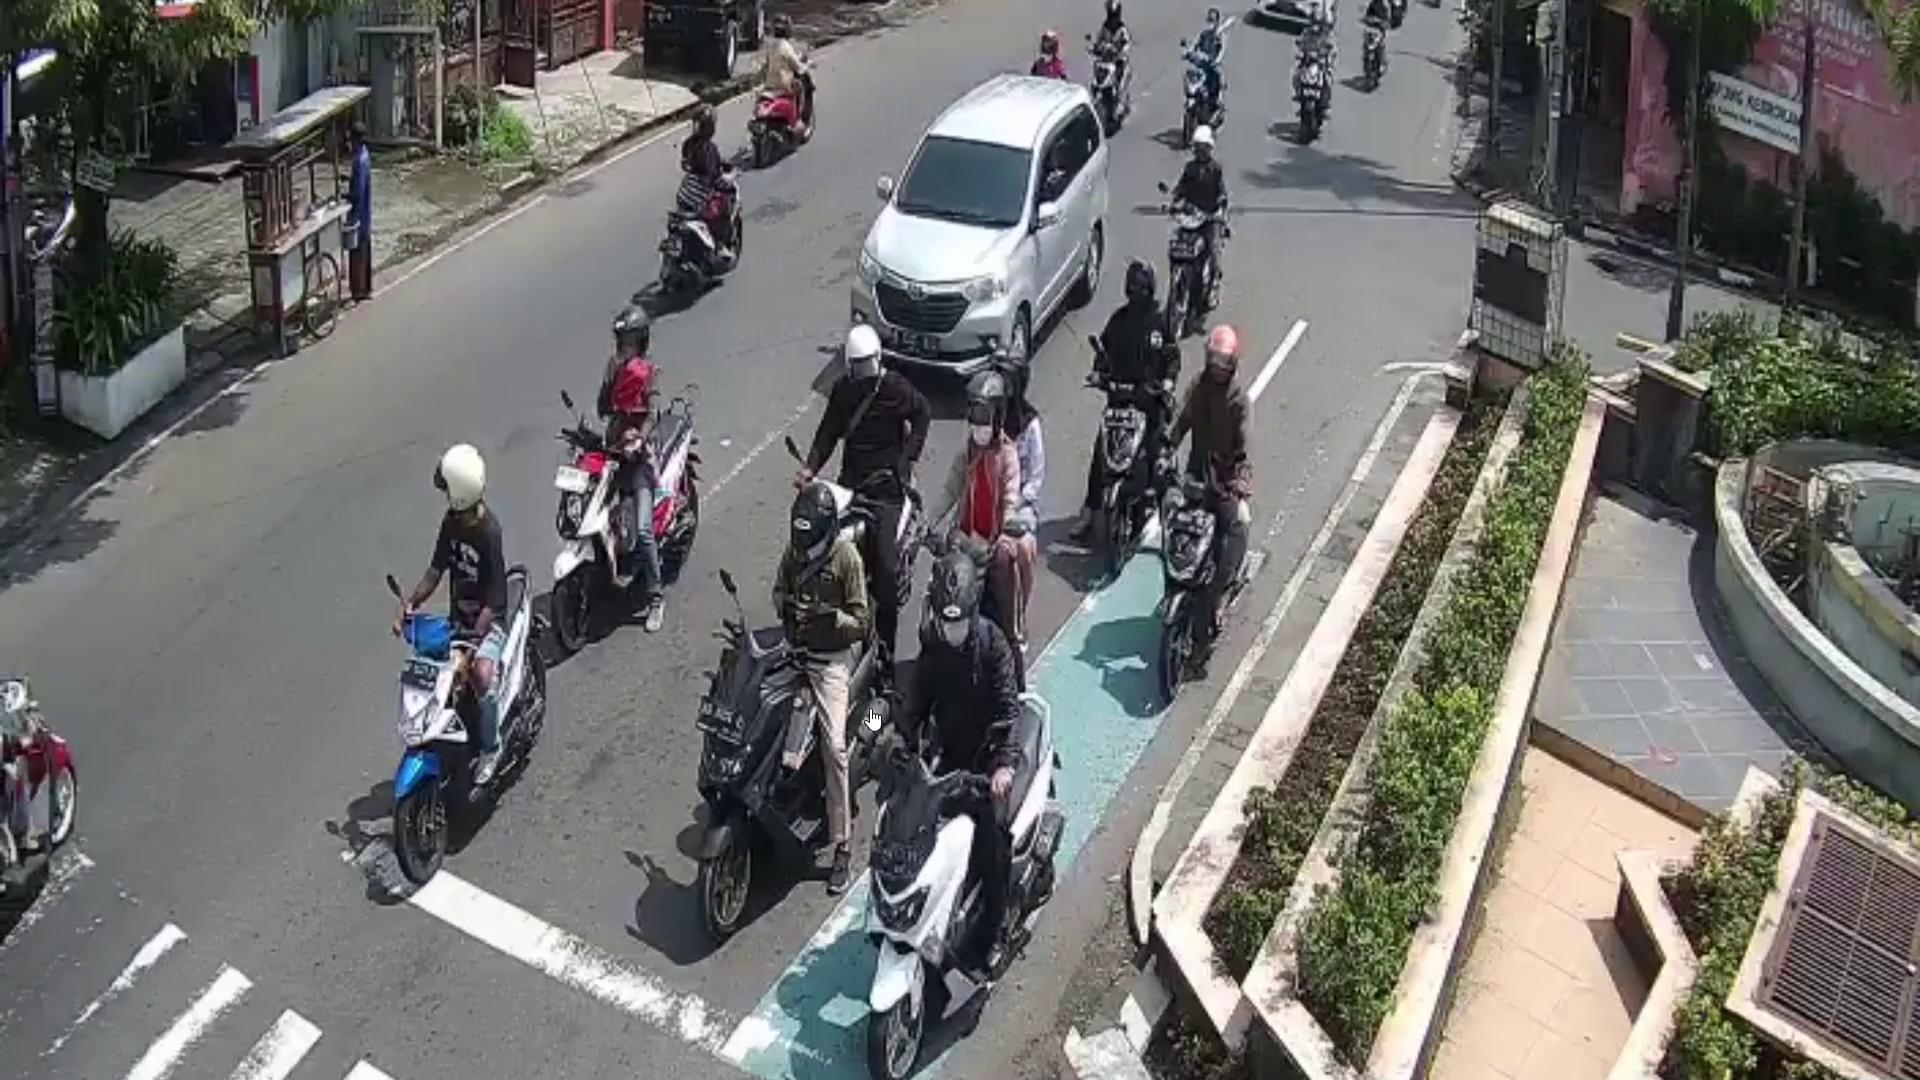car: (852, 74, 1110, 381)
motorbike: (868, 694, 1060, 1080), (699, 607, 885, 943), (389, 560, 546, 890), (545, 405, 692, 650), (1160, 462, 1245, 708), (662, 166, 746, 298), (1095, 377, 1150, 574), (749, 59, 820, 165), (1164, 204, 1224, 316), (1295, 42, 1328, 153), (1183, 46, 1213, 138)
